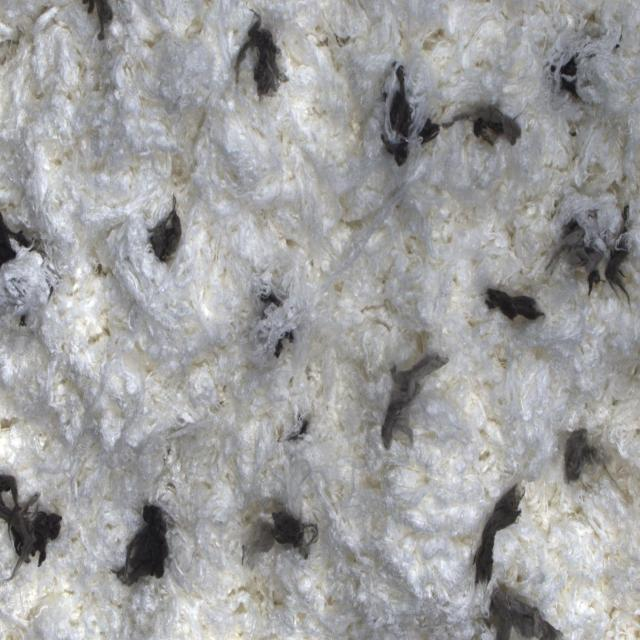dust: (545, 194, 640, 314), (547, 0, 640, 111), (108, 480, 183, 609), (0, 462, 71, 591), (557, 411, 640, 509), (420, 83, 528, 158), (0, 198, 58, 328), (379, 349, 448, 454), (467, 477, 526, 590), (233, 2, 294, 110), (239, 497, 319, 573), (478, 584, 570, 640), (376, 58, 419, 172), (259, 279, 302, 362), (145, 191, 184, 280), (479, 283, 547, 331), (275, 393, 315, 470), (81, 0, 116, 42)
